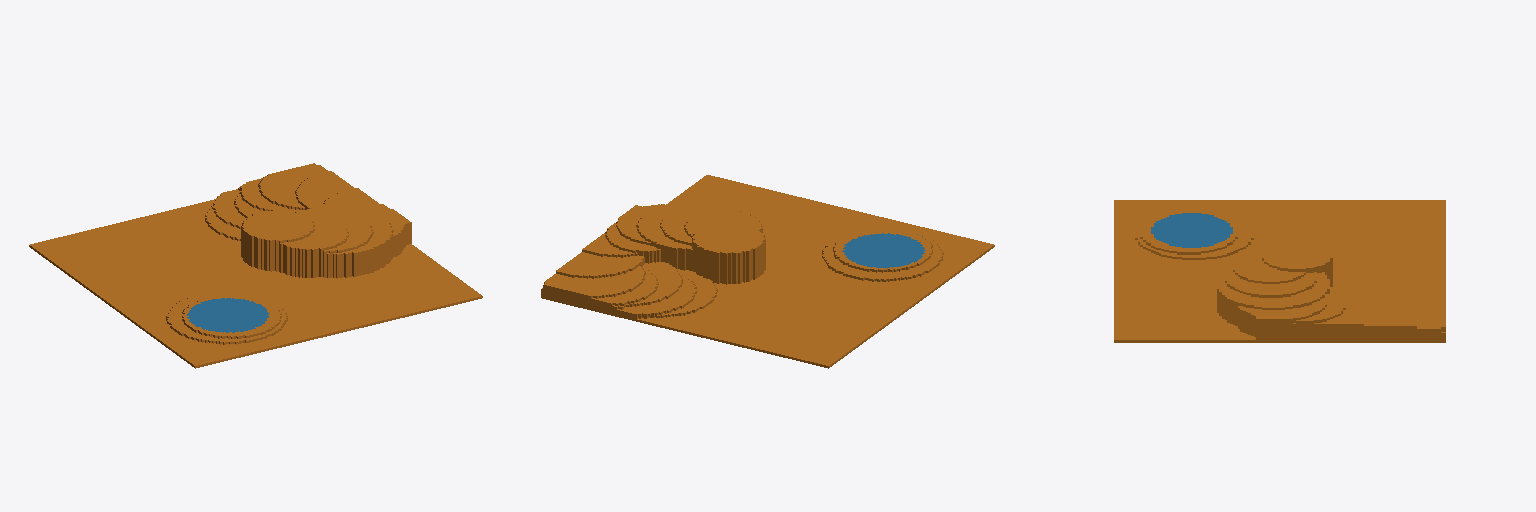
The picture shows the model from 3 angles: view 1: azimuth 30°, elevation 25°; view 2: azimuth 150°, elevation 25°; view 3: azimuth 270°, elevation 25°; orthographic projection.
Parts seen in each view (by area): view 1: object 1; view 2: object 1; view 3: object 1.
Boxes of the visible parts, x1=… form: object 1: x1=29, y1=163, x2=482, y2=368; object 1: x1=541, y1=175, x2=994, y2=368; object 1: x1=1114, y1=200, x2=1445, y2=342.
Bounding box in the file's own units: 12.6 × 1.4 × 12.6.
1 materials, 1 textured.